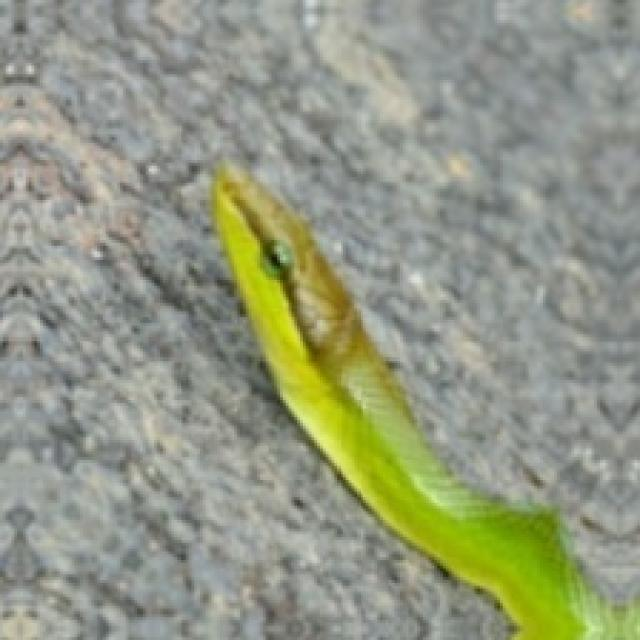red-tailed green ratsnake: (211, 163, 637, 637)
